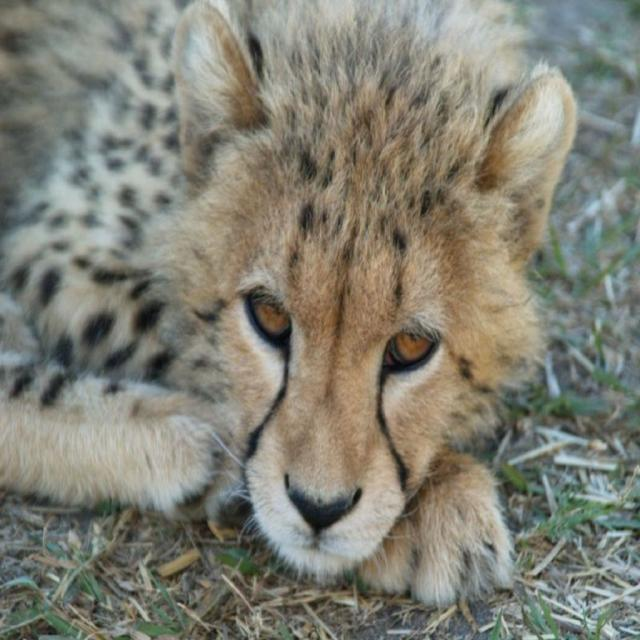Cheetah: (0, 0, 578, 611)
